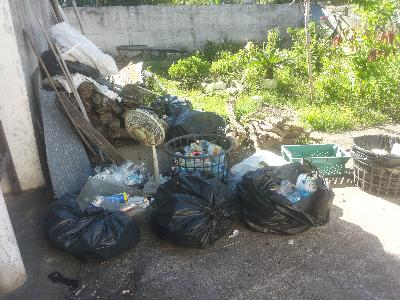plastic_bag: (37, 192, 143, 267), (236, 160, 335, 235), (148, 169, 235, 251), (49, 20, 119, 78), (165, 104, 227, 148)
